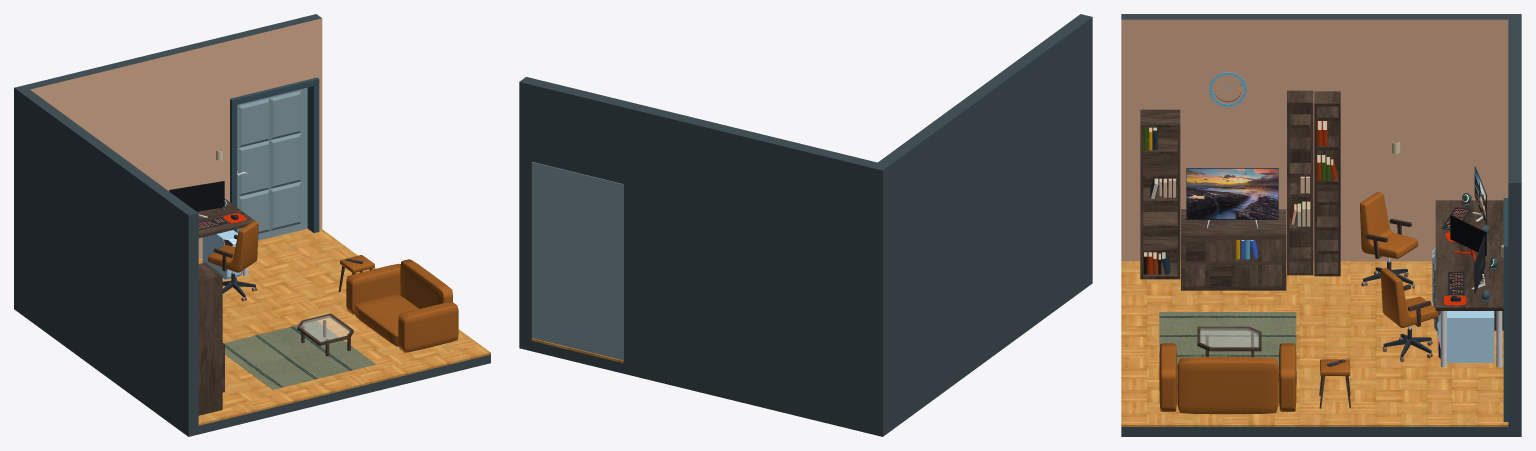
Rendered from room.glb.
The picture shows the model from 3 angles, left to right: view 1: azimuth 30°, elevation 25°; view 2: azimuth 150°, elevation 25°; view 3: azimuth 270°, elevation 25°; orthographic projection. The views are drawn at different scales.
Parts seen in each view (by area): view 1: Plane_84, Plane.013_88, Plane.001_85, Cube.012_19, Plane.006_17, Plane.004_108, Plane.012_87, Cube_96, Cube.005_5, Plane.008_56, Cube.007_8, Cube.030_45 (+1 smaller); view 2: Plane_84, Plane.001_85; view 3: Plane_84, Plane.013_88, Cube.012_19, Plane.005_109, Plane.004_108, Plane.008_56, Plane.006_17, Cube.003_1, Plane.003_107, Plane.002_106, Cube.007_8, Cube.035_58 (+16 smaller).
Part boxes in pixels (<box>): Plane_84: <box>14,14,490,436</box>; Plane.013_88: <box>198,228,490,425</box>; Plane.001_85: <box>237,87,307,240</box>; Cube.012_19: <box>346,259,458,352</box>; Plane.006_17: <box>224,321,376,389</box>; Plane.004_108: <box>198,262,222,415</box>; Plane.012_87: <box>230,77,319,232</box>; Cube_96: <box>208,221,258,272</box>; Cube.005_5: <box>169,181,224,211</box>; Plane.008_56: <box>197,199,255,238</box>; Cube.007_8: <box>202,230,241,279</box>; Cube.030_45: <box>300,315,350,341</box>; Plane_84: <box>519,14,1092,436</box>; Plane.001_85: <box>532,162,623,360</box>; Plane_84: <box>1121,14,1521,436</box>; Plane.013_88: <box>1121,261,1508,426</box>; Cube.012_19: <box>1159,343,1296,414</box>; Plane.005_109: <box>1181,209,1286,290</box>; Plane.004_108: <box>1140,109,1180,279</box>; Plane.008_56: <box>1433,200,1503,330</box>; Plane.006_17: <box>1159,312,1296,369</box>; Cube.003_1: <box>1186,168,1278,219</box>; Plane.003_107: <box>1287,90,1313,275</box>; Plane.002_106: <box>1314,91,1340,276</box>; Cube.007_8: <box>1437,311,1494,362</box>; Cube.035_58: <box>1360,192,1418,258</box>.
Size of the model in its own units: 6 by 4.2 by 6.
Materials: 36 (5 with a texture image).
